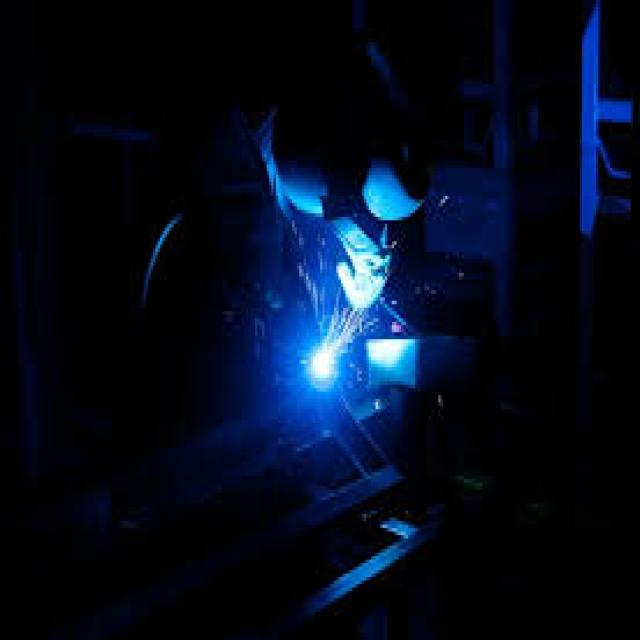welding: (309, 341, 337, 384)
